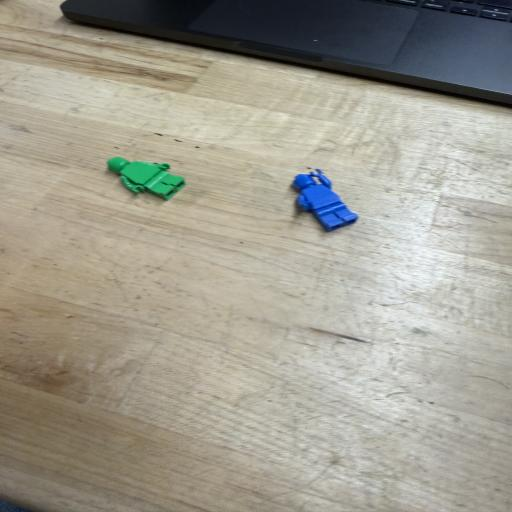blue-minifig: (294, 170, 358, 232)
green-minifig: (107, 157, 185, 200)
